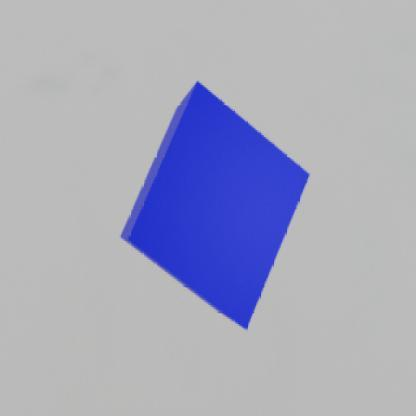cube: (118, 80, 310, 330)
